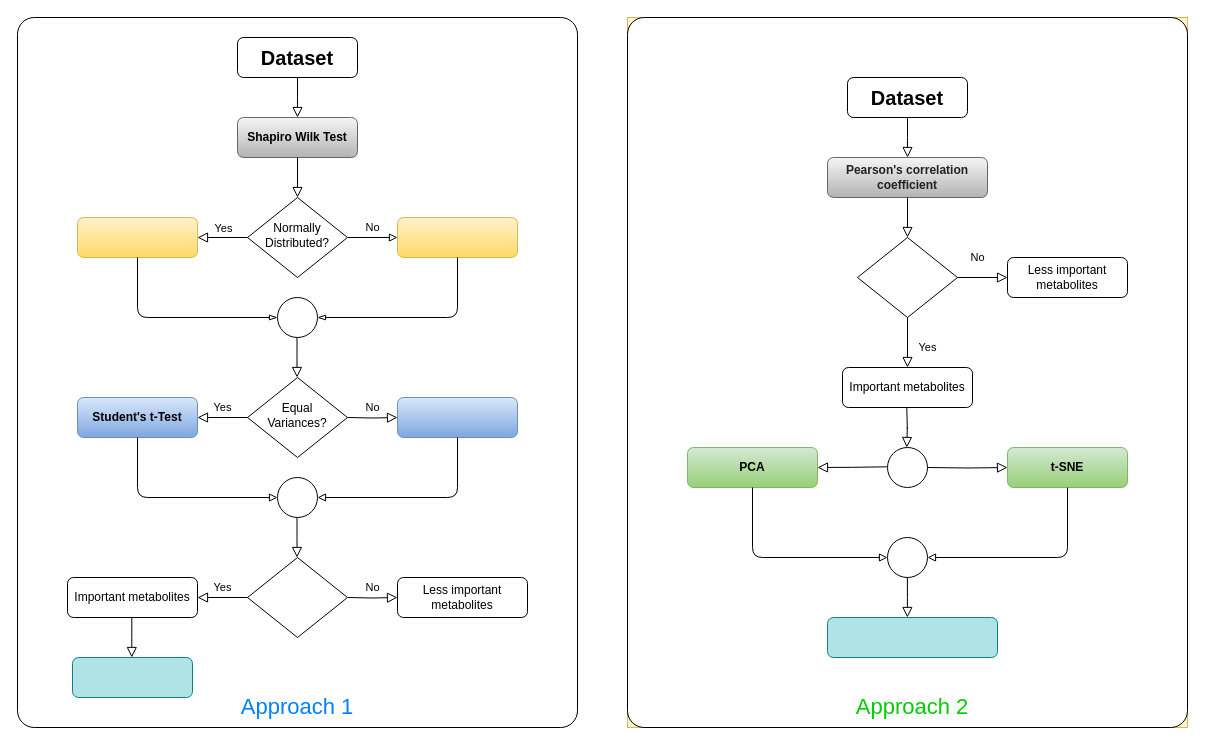
This 1205x745 diagram has some shape labels left out. The box of each missing label's shape, as (x1, y1, x2, y2) in pixels:
Bartlett's Test: (76, 216, 198, 258)
Kruskal Wallis Test: (396, 396, 518, 438)
Levene's Test: (396, 216, 518, 258)
p-value < 0.01?: (246, 556, 348, 638)
p-value < 0.06: (856, 236, 958, 318)
RandomForestClassifier: (826, 616, 998, 658)
RidgeClassifier: (72, 656, 192, 698)
